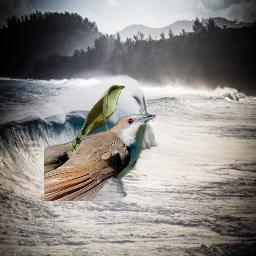Cuckoo: (44, 114, 156, 201), (71, 85, 125, 152)
